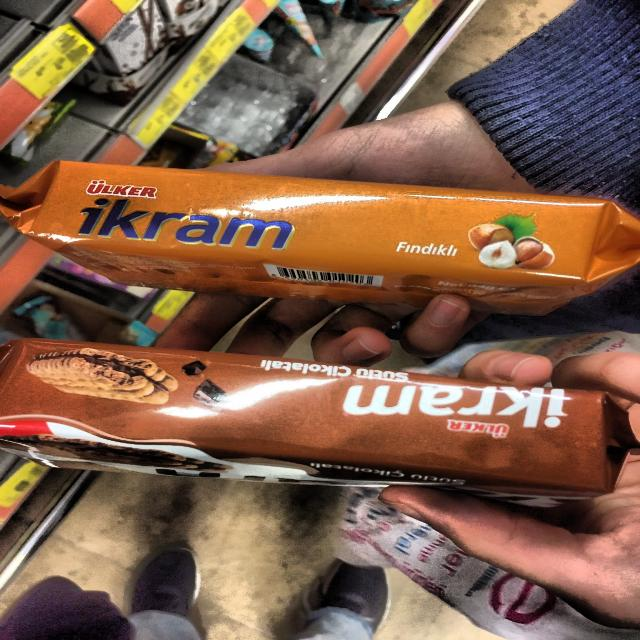Plastic: (0, 158, 640, 324), (0, 338, 638, 497)
